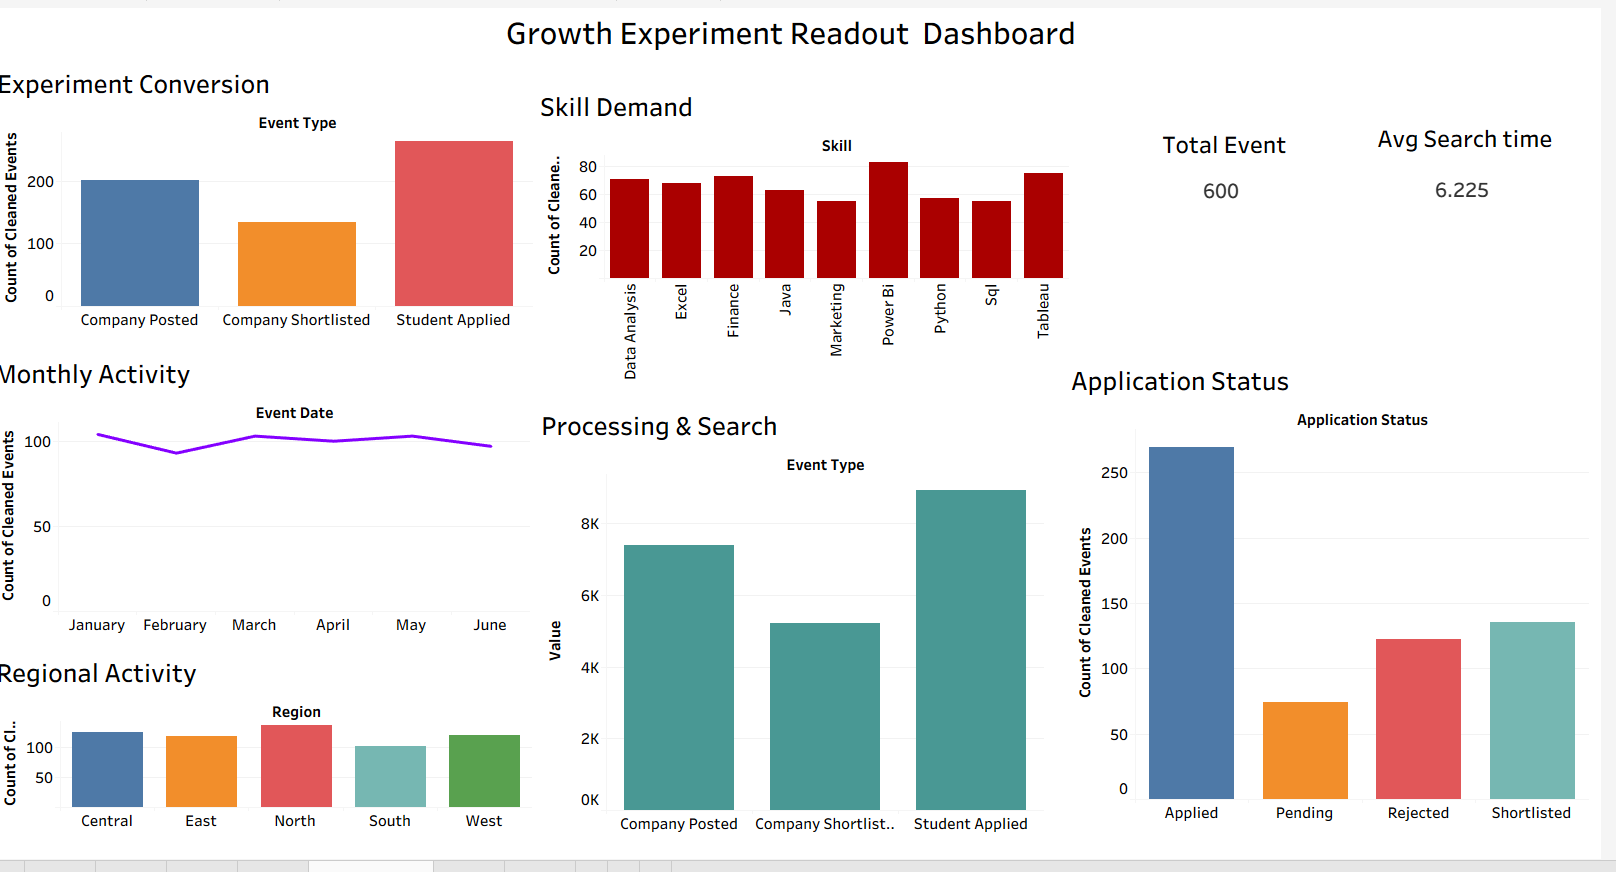

This screenshot's page, from the dashboard's own definition file:
{"tool":"tableau","page":{"name":"Dashboard 1","canvas":[1620,860],"ordinal":0},"visuals":[{"type":"title","box":[8,8,1604,49]},{"type":"worksheet","title":"Sheet 1","mark":"Automatic","rows":["Cleaned Events_6500C3F15C014A8DA45DE83143AD2D2D"],"cols":["event_type"],"box":[12,63,540,284]},{"type":"worksheet","title":"Sheet 4","mark":"Automatic","rows":["Cleaned Events_6500C3F15C014A8DA45DE83143AD2D2D"],"cols":["skill"],"box":[555,86,533,313]},{"type":"text","box":[1393,123,182,32]},{"type":"text","box":[1178,129,131,32]},{"type":"worksheet","title":"Sheet 8","mark":"Automatic","box":[1432,177,169,61]},{"type":"worksheet","title":"Sheet 7","mark":"Automatic","box":[1202,178,97,48]},{"type":"worksheet","title":"Sheet 5","mark":"Automatic","rows":["Cleaned Events_6500C3F15C014A8DA45DE83143AD2D2D"],"cols":["event_date"],"box":[9,353,540,284]},{"type":"worksheet","title":"Sheet 2","mark":"Automatic","rows":["Cleaned Events_6500C3F15C014A8DA45DE83143AD2D2D"],"cols":["application_status"],"box":[1086,360,522,465]},{"type":"worksheet","title":"Sheet 6","mark":"Automatic","cols":["event_type"],"box":[556,405,507,446]},{"type":"worksheet","title":"Sheet 3","mark":"Automatic","rows":["Cleaned Events_6500C3F15C014A8DA45DE83143AD2D2D"],"cols":["region"],"box":[11,652,540,181]}]}

Visuals, with their boxes in screenshot pixels (x1, y1, x2, y2), scaled from the page's 1620x860 canvas onto the 1616x872 screenshot:
title: x1=8, y1=8, x2=1608, y2=58
"Sheet 1" worksheet: x1=12, y1=64, x2=551, y2=352
"Sheet 4" worksheet: x1=554, y1=87, x2=1085, y2=405
text: x1=1390, y1=125, x2=1571, y2=157
text: x1=1175, y1=131, x2=1306, y2=163
"Sheet 8" worksheet: x1=1428, y1=179, x2=1597, y2=241
"Sheet 7" worksheet: x1=1199, y1=180, x2=1296, y2=229
"Sheet 5" worksheet: x1=9, y1=358, x2=548, y2=646
"Sheet 2" worksheet: x1=1083, y1=365, x2=1604, y2=837
"Sheet 6" worksheet: x1=555, y1=411, x2=1060, y2=863
"Sheet 3" worksheet: x1=11, y1=661, x2=550, y2=845
